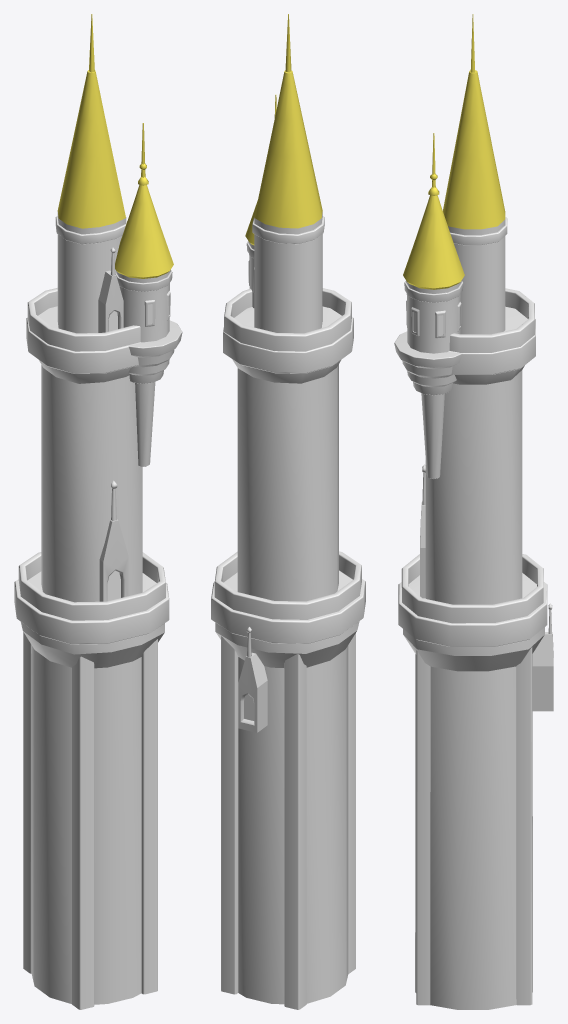
Rendered from castle_tower_012.gltf.
3 renders of one model, left to right at view 1: azimuth 30°, elevation 25°; view 2: azimuth 150°, elevation 25°; view 3: azimuth 270°, elevation 25°, orthographic.
Parts seen in each view (by area): view 1: castle_tower_012; view 2: castle_tower_012; view 3: castle_tower_012.
Boxes of the visible parts, x1=… form: castle_tower_012: x1=14, y1=14, x2=182, y2=1009; castle_tower_012: x1=211, y1=14, x2=365, y2=1009; castle_tower_012: x1=394, y1=14, x2=553, y2=1009.
Bounding box in the file's own units: 4.92 × 34.96 × 5.2.
2 materials, 1 textured.
